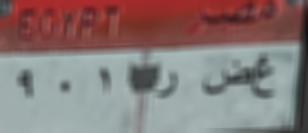0: (54, 76, 78, 103)
1: (91, 63, 120, 103)
9: (17, 67, 39, 107)
daad: (199, 56, 249, 104)
ghayn: (255, 48, 284, 105)
raa: (152, 68, 192, 106)
